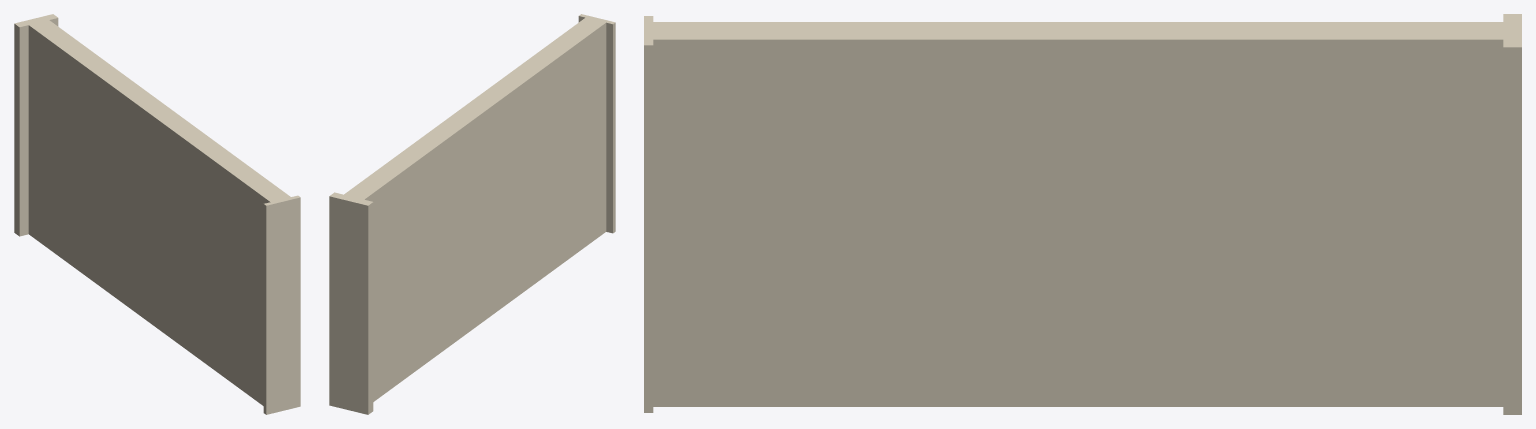
3 renders of one model, left to right at view 1: azimuth 30°, elevation 25°; view 2: azimuth 150°, elevation 25°; view 3: azimuth 270°, elevation 25°, orthographic. The views are drawn at different scales.
Visible parts, largest first — view 1: A-GF-WALL-013; view 2: A-GF-WALL-013; view 3: A-GF-WALL-013.
Part boxes in pixels (x1,y1,x2,y2): A-GF-WALL-013: [14, 14, 300, 414]; A-GF-WALL-013: [329, 14, 615, 414]; A-GF-WALL-013: [644, 14, 1521, 414].
Size of the model in its own units: 0.53 by 2.72 by 5.89.
